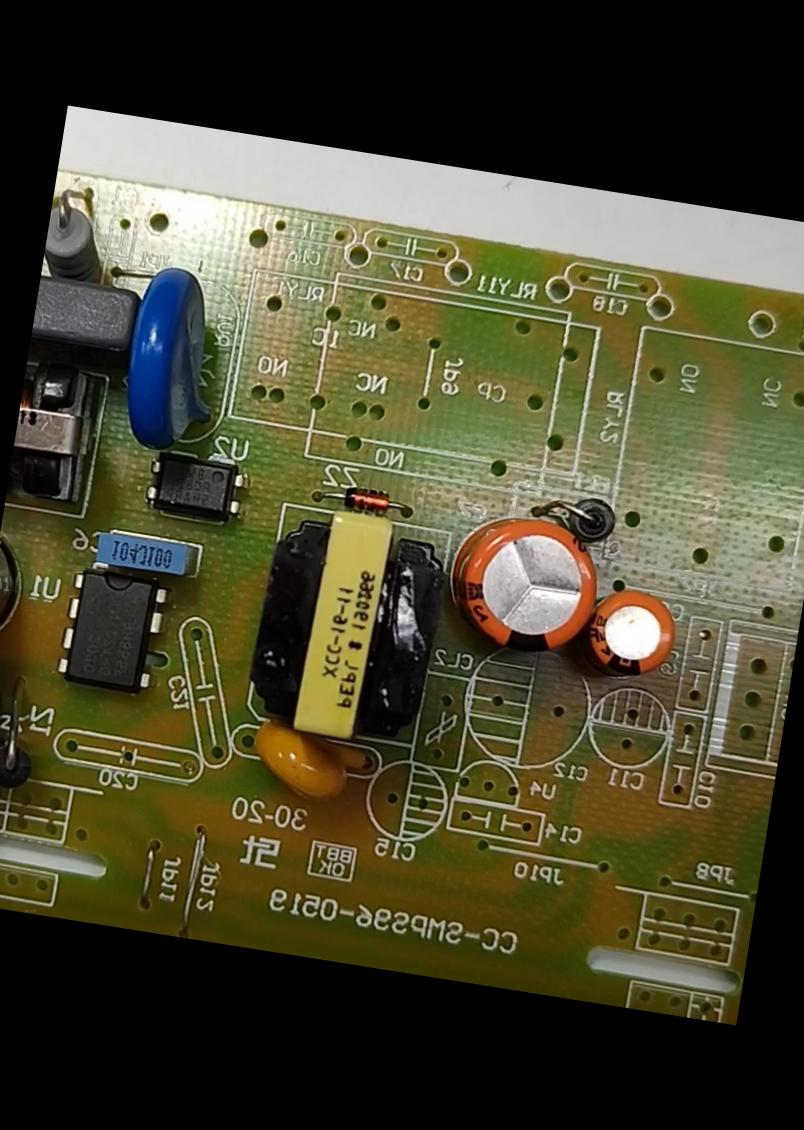Cap1: (444, 494, 621, 679)
Cap2: (558, 566, 704, 702)
Cap3: (0, 516, 43, 680)
Cap4: (0, 655, 27, 807)
MOSFET: (40, 558, 182, 715)
Mov: (97, 250, 236, 480)
Resistor: (40, 182, 128, 296)
Transformer: (236, 495, 467, 758), (3, 338, 126, 528)
